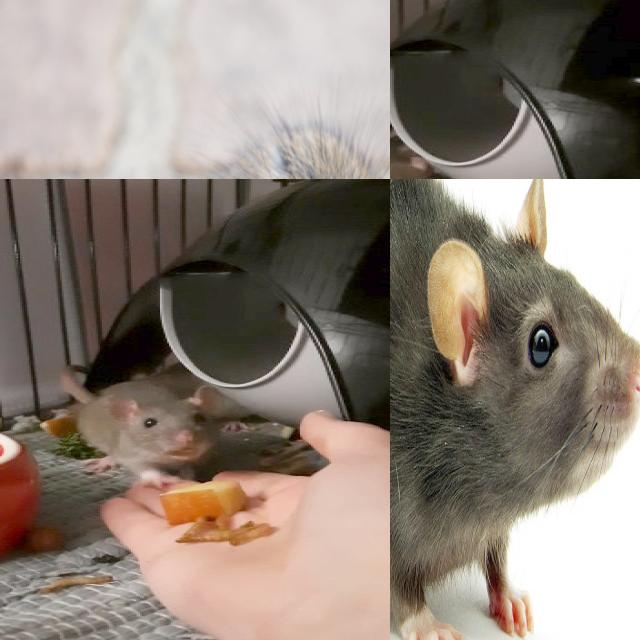rat: (390, 179, 640, 640), (80, 380, 236, 491)
